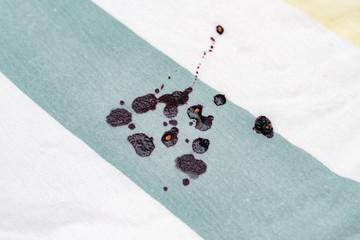gun: (134, 87, 190, 116), (190, 37, 214, 84), (102, 107, 138, 128), (172, 153, 205, 175), (126, 132, 154, 157), (184, 108, 213, 129), (252, 113, 276, 138), (212, 94, 226, 104), (180, 175, 190, 185), (215, 22, 222, 36), (167, 73, 172, 79), (162, 184, 167, 190)
